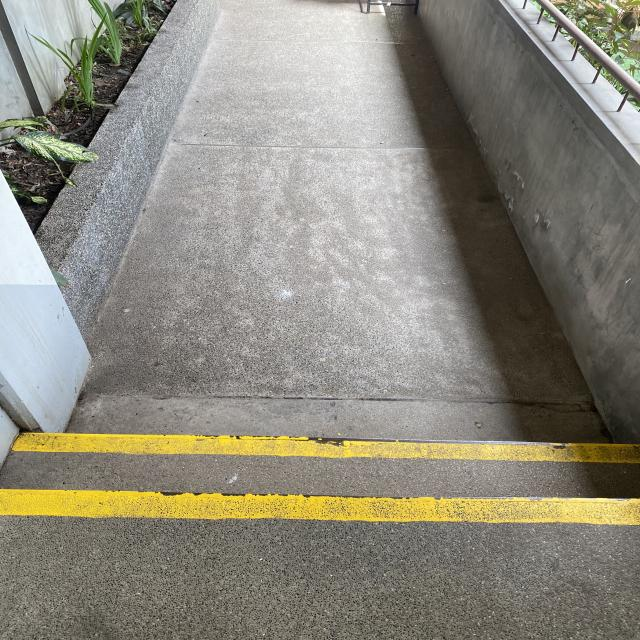stair: (1, 433, 640, 635)
